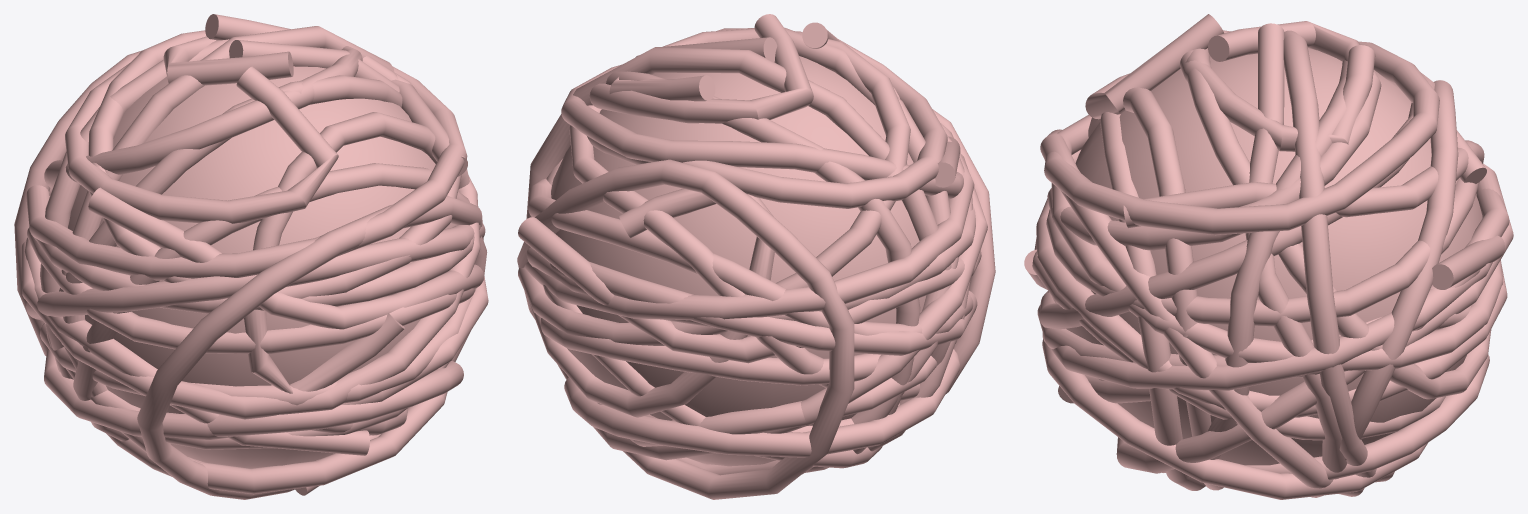
The model's file is yarn.fbx.
3 renders of one model, left to right at view 1: azimuth 30°, elevation 25°; view 2: azimuth 150°, elevation 25°; view 3: azimuth 270°, elevation 25°, orthographic. The views are drawn at different scales.
Parts seen in each view (by area): view 1: polySurface8, pSphere1; view 2: polySurface8, pSphere1; view 3: polySurface8, pSphere1.
Part boxes in pixels (x1,y1,x2,y2): polySurface8: (14,14,488,499); pSphere1: (68,59,456,468); polySurface8: (517,14,995,499); pSphere1: (551,56,926,466); polySurface8: (1024,14,1513,499); pSphere1: (1052,48,1482,465).
Bounding box in the file's own units: 7.15 × 7.26 × 7.14.
